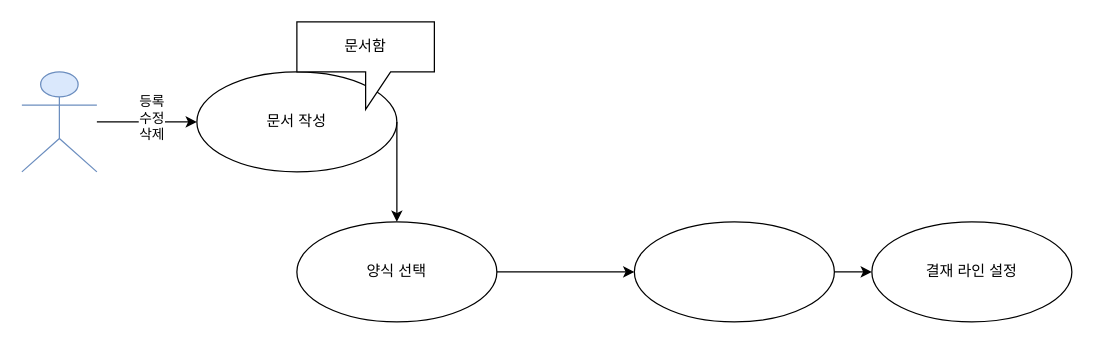
Image size: 1094x344. Some labels were removed from this diagram. Here are the shapes that lost their labels. From the top down, the centre of each, then its label:
At (x=59, y=121): "기안자".
At (x=733, y=271): "임시 저장".
